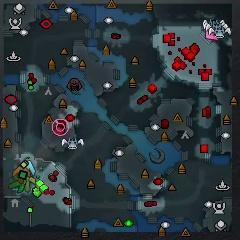Other: (52, 118, 69, 137)
x1: (205, 31, 219, 40)
x2: (24, 176, 36, 192)
x3: (26, 160, 35, 175)
x4: (9, 176, 26, 193)
x5: (13, 165, 30, 183)
